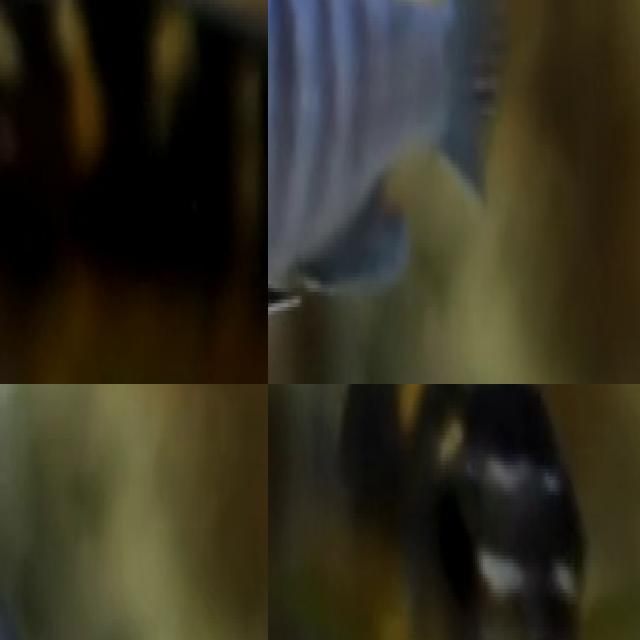fish: (0, 0, 268, 384), (290, 384, 600, 640)
